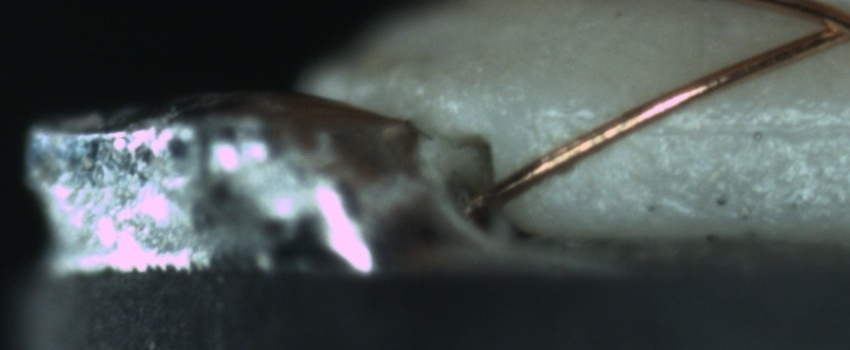CL: (793, 3, 850, 54)
DL: (564, 94, 850, 162)
